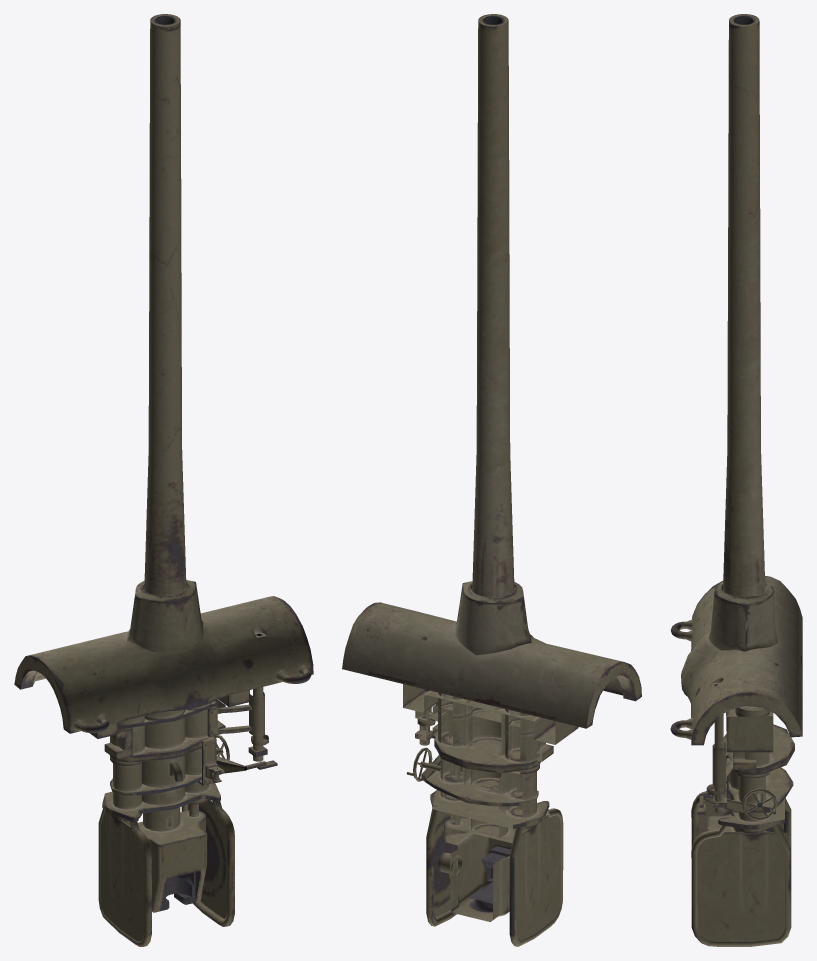
File: Gun_02.glb
3 renders of one model, left to right at view 1: azimuth 30°, elevation 25°; view 2: azimuth 150°, elevation 25°; view 3: azimuth 270°, elevation 25°, orthographic.
Parts seen in each view (by area): view 1: set_0_group_0; view 2: set_0_group_0; view 3: set_0_group_0.
Part boxes in pixels (bbox=[...]): set_0_group_0: bbox=[14, 14, 313, 946]; set_0_group_0: bbox=[342, 14, 641, 946]; set_0_group_0: bbox=[670, 14, 802, 946].
Bounding box in the file's own units: 1.36 × 4.81 × 0.6357.
Materials: 1 (1 with a texture image).
